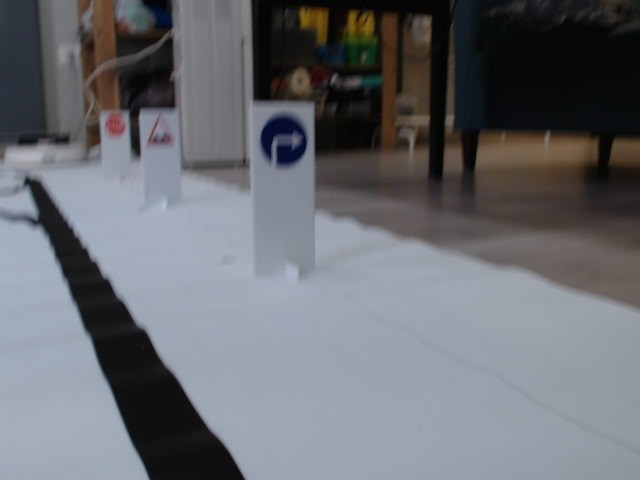Nerov: (144, 113, 176, 147)
Right: (259, 114, 307, 168)
